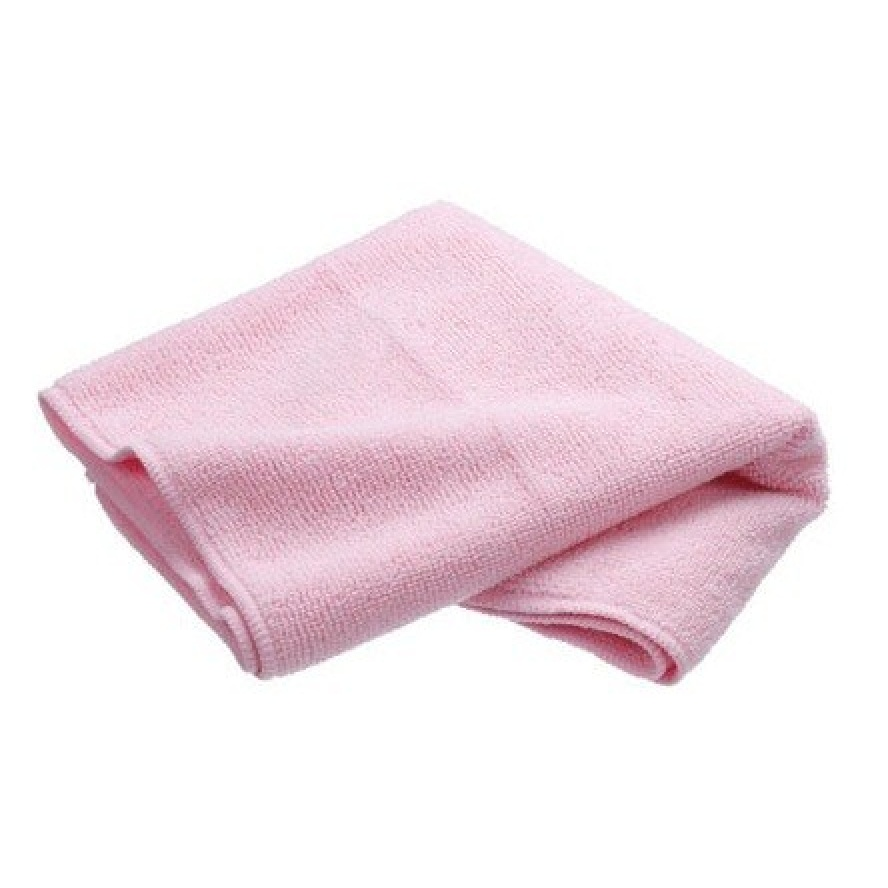flexible: (44, 200, 832, 692)
